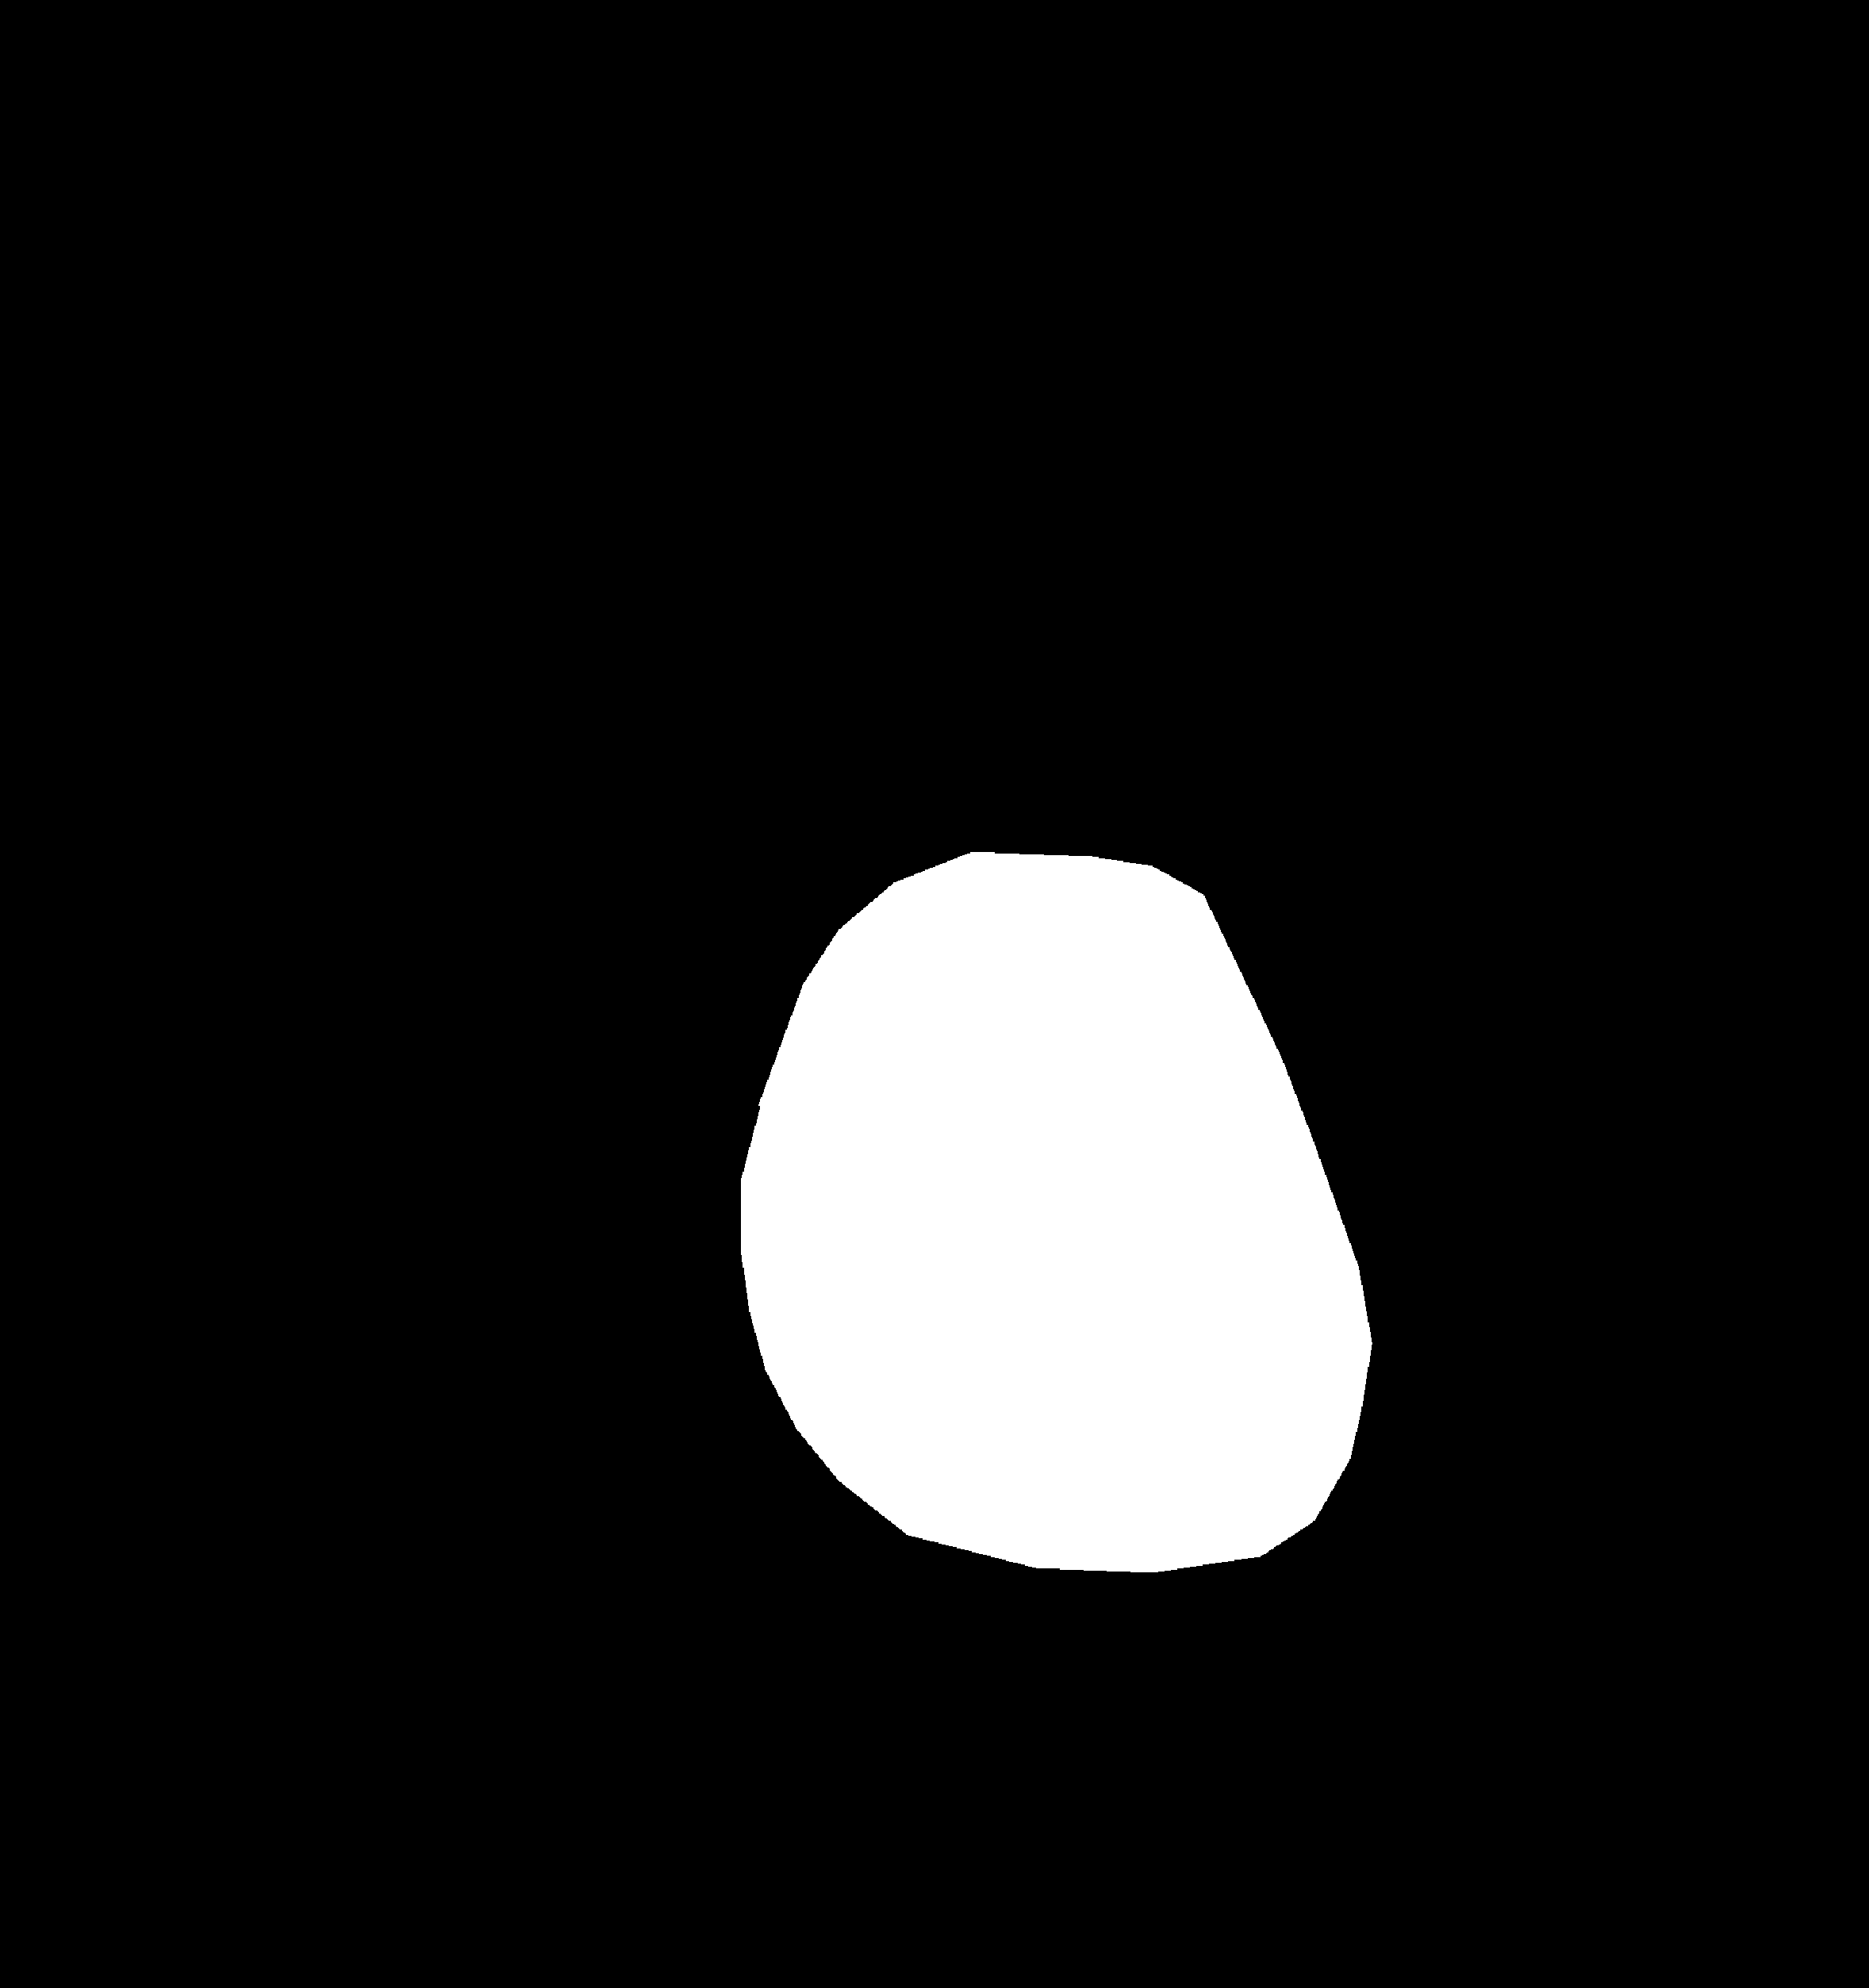heart: (748, 1006, 1374, 1572)
left_lung: (195, 237, 854, 1793)
right_lung: (1028, 235, 1639, 1872)
